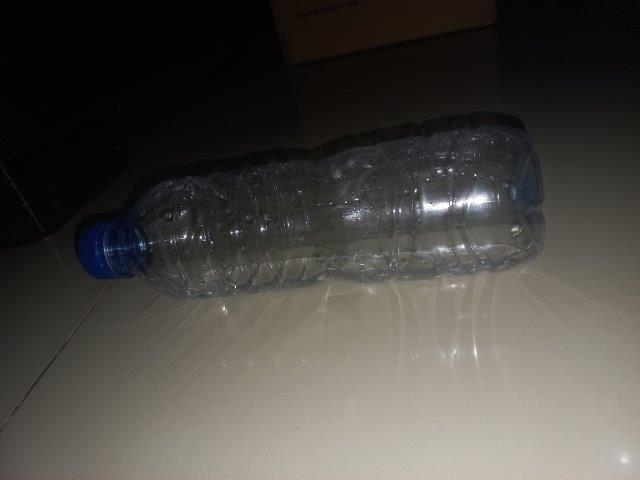botolplastik: (77, 124, 544, 302)
